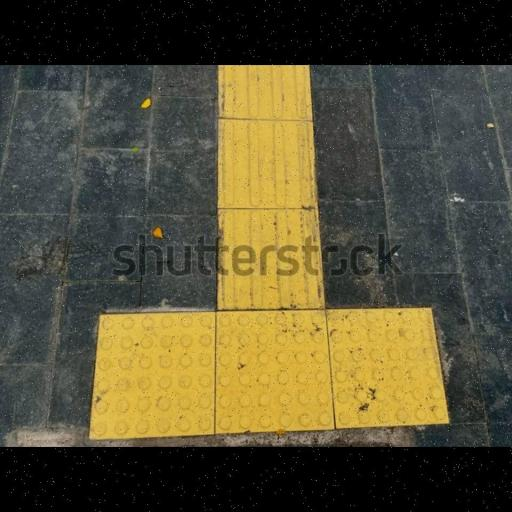dot: (88, 311, 214, 442), (323, 305, 452, 431), (211, 309, 334, 438)
line: (213, 116, 315, 209)
